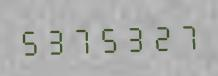five: (17, 23, 42, 58), (95, 20, 120, 55)
seven: (69, 21, 94, 56), (173, 17, 198, 52)
three: (43, 22, 68, 57), (121, 19, 146, 54)
two: (147, 18, 172, 53)
